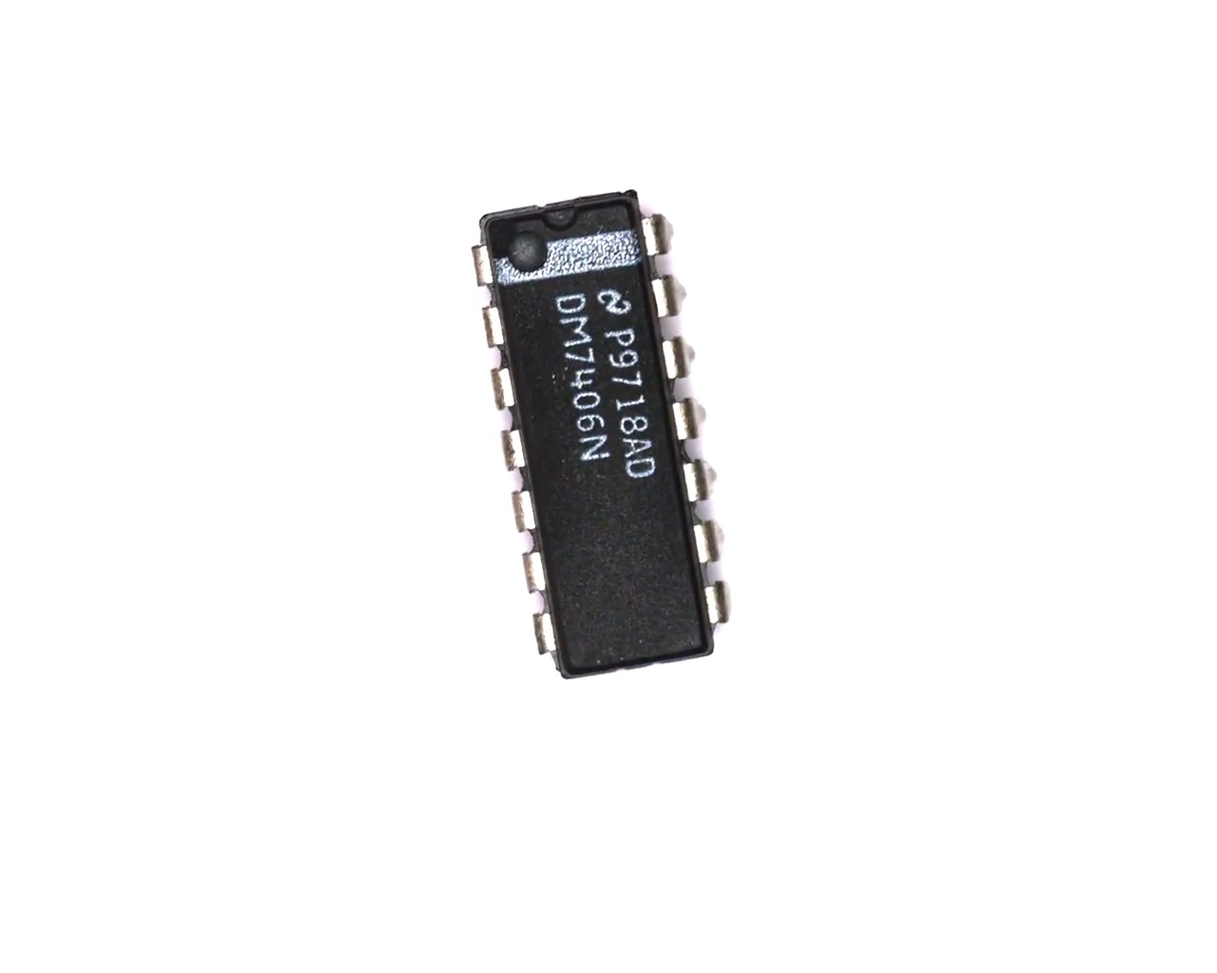IC: (454, 174, 743, 704)
notch: (537, 195, 587, 238)
